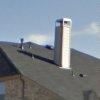Chimney: (50, 12, 75, 66)
